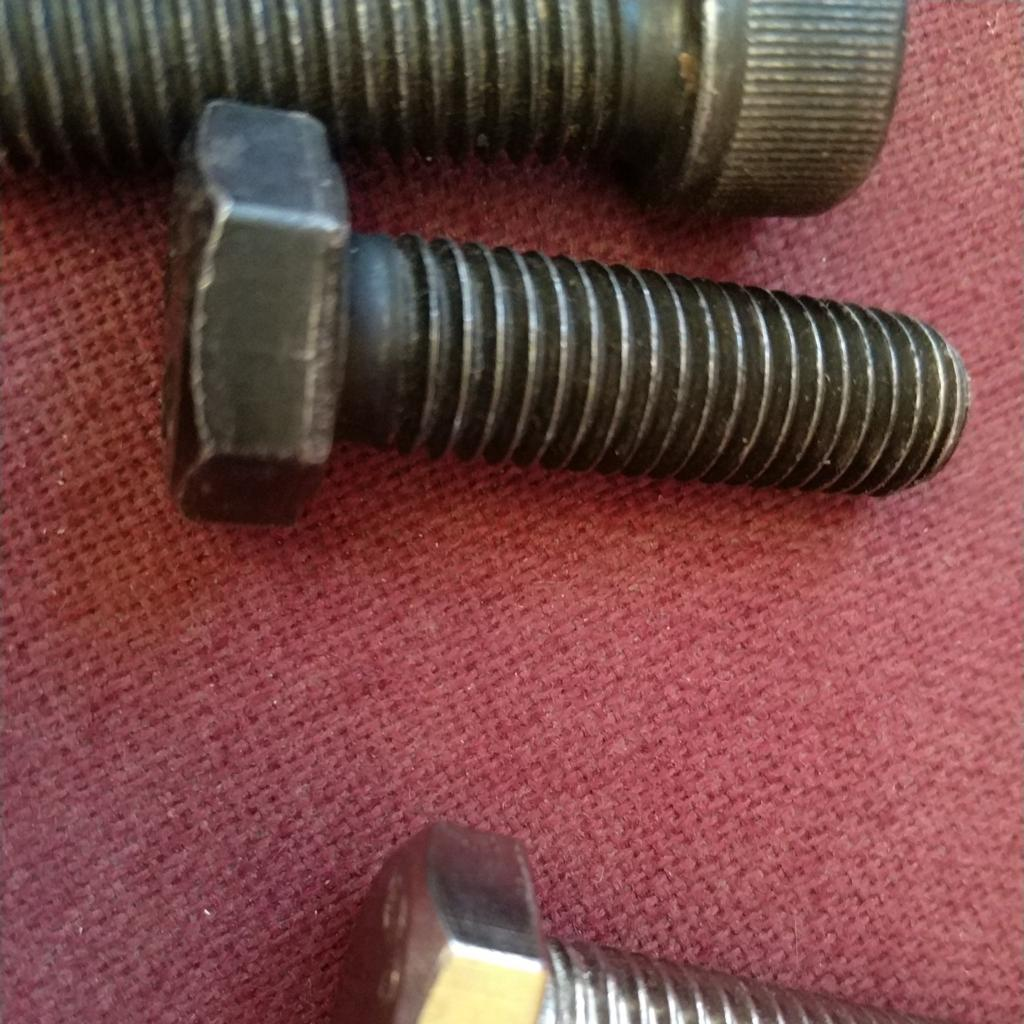screwtype1black: (2, 1, 909, 224)
screwtype2black: (156, 98, 974, 599)
screwtype2silver: (320, 819, 1018, 1024)
